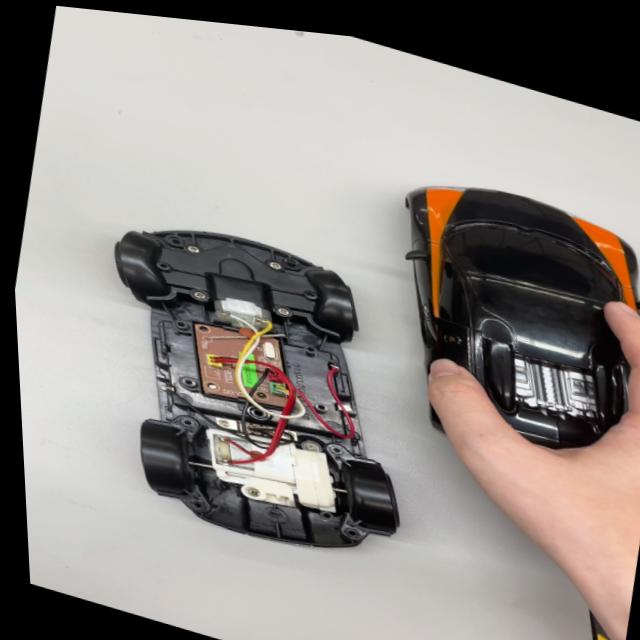Chassis: (84, 195, 440, 588)
vehicle_body: (362, 156, 640, 498)
